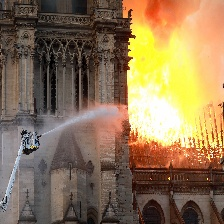fire: (128, 54, 223, 163)
